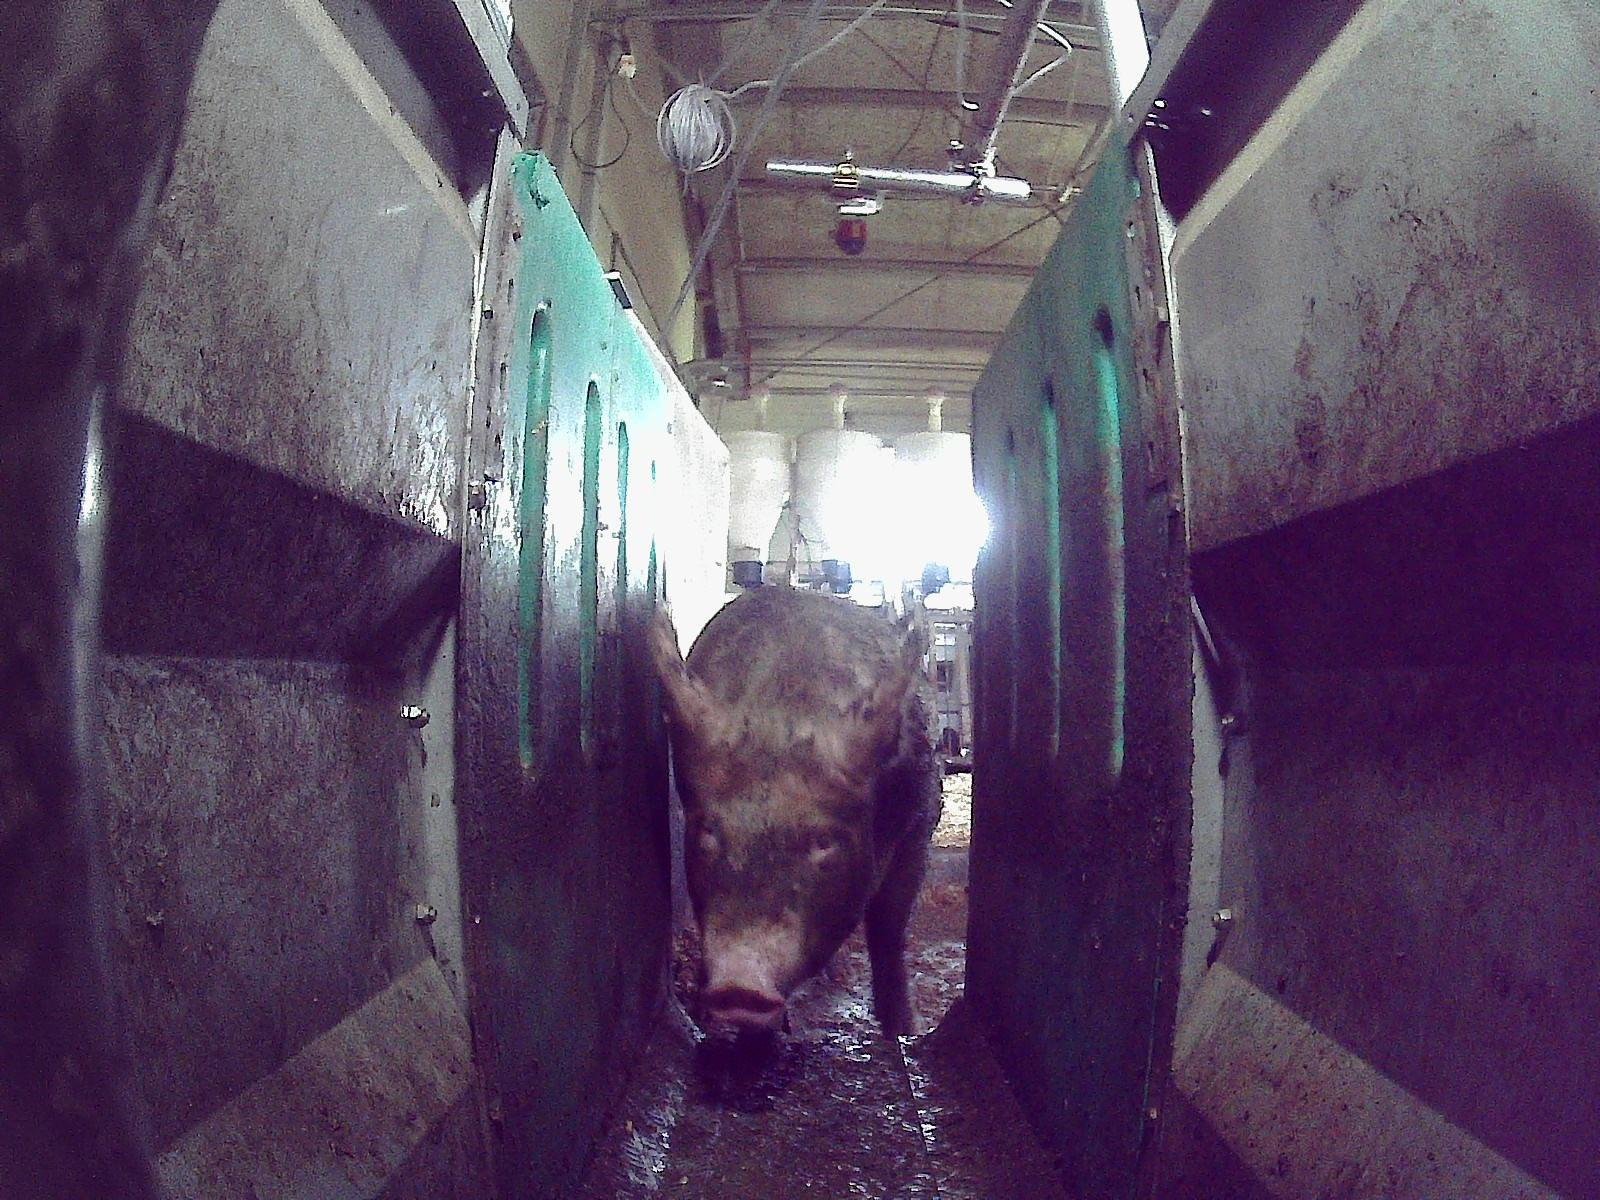Face: (673, 701, 875, 1022)
